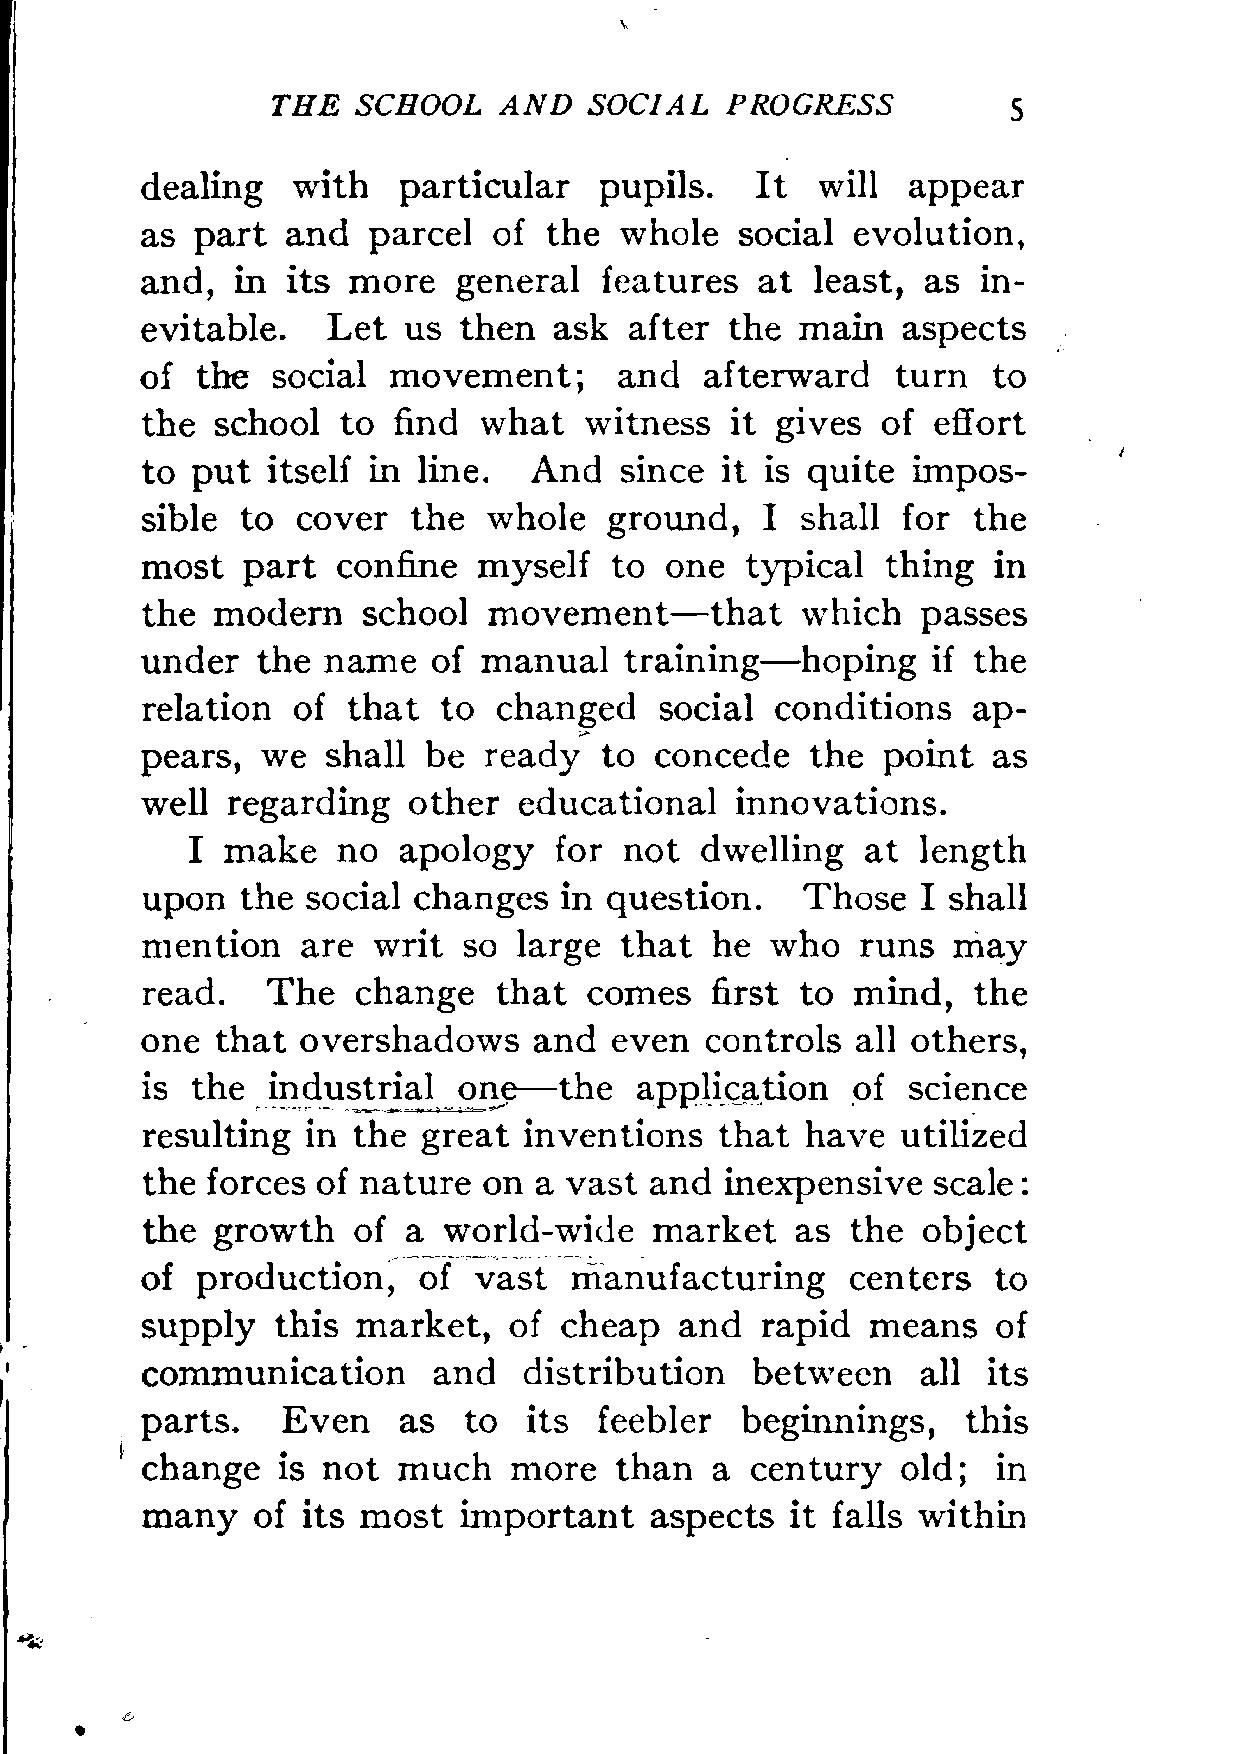content: (132, 160, 1035, 1537)
content_chapter: (262, 89, 896, 118)
content_pagenumber: (1002, 86, 1029, 126)
